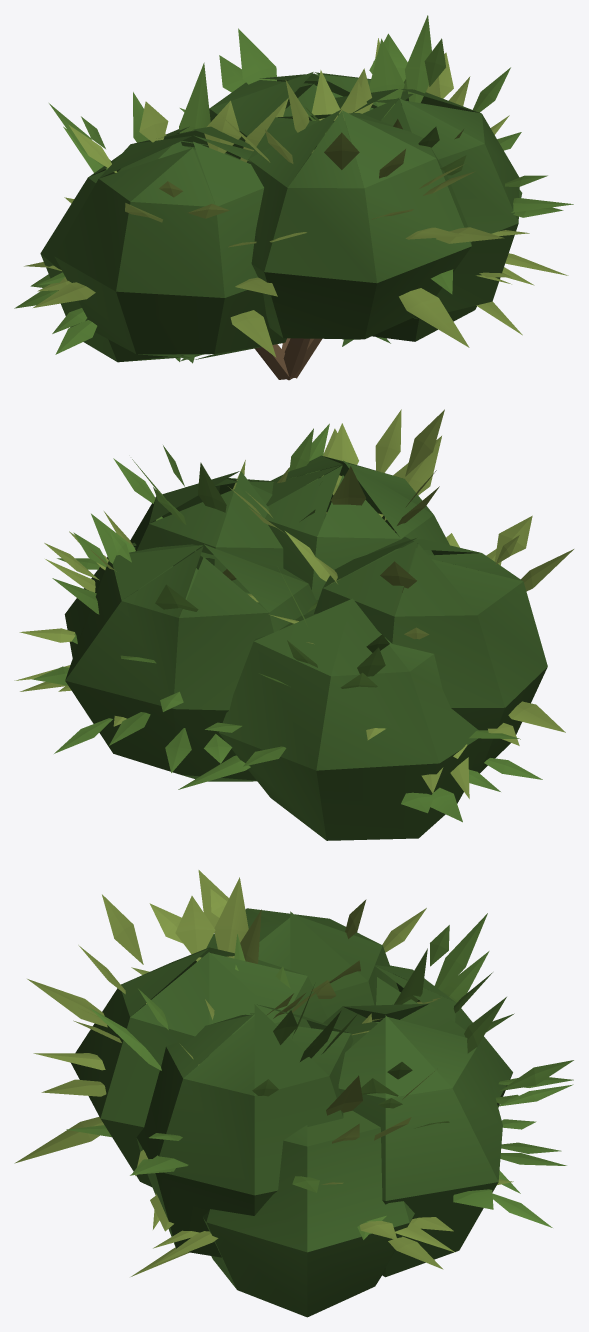
Rendered from coastal-shrub.glb.
3 views of the same model, one above another, from view 1: azimuth 30°, elevation 25°; view 2: azimuth 150°, elevation 25°; view 3: azimuth 270°, elevation 25° (orthographic). The views are drawn at different scales.
Parts seen in each view (by area): view 1: coastal-shrub; view 2: coastal-shrub; view 3: coastal-shrub.
Boxes of the visible parts, bbox=[...] form: coastal-shrub: bbox=[14, 15, 573, 380]; coastal-shrub: bbox=[14, 409, 573, 840]; coastal-shrub: bbox=[14, 870, 573, 1317].
Bounding box in the file's own units: 2.19 × 1.38 × 1.99.
